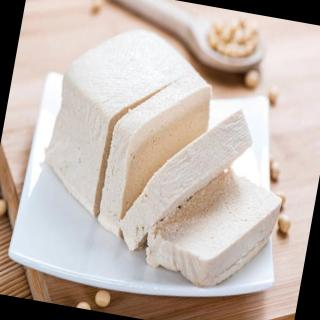Tahu: (30, 15, 315, 302)
